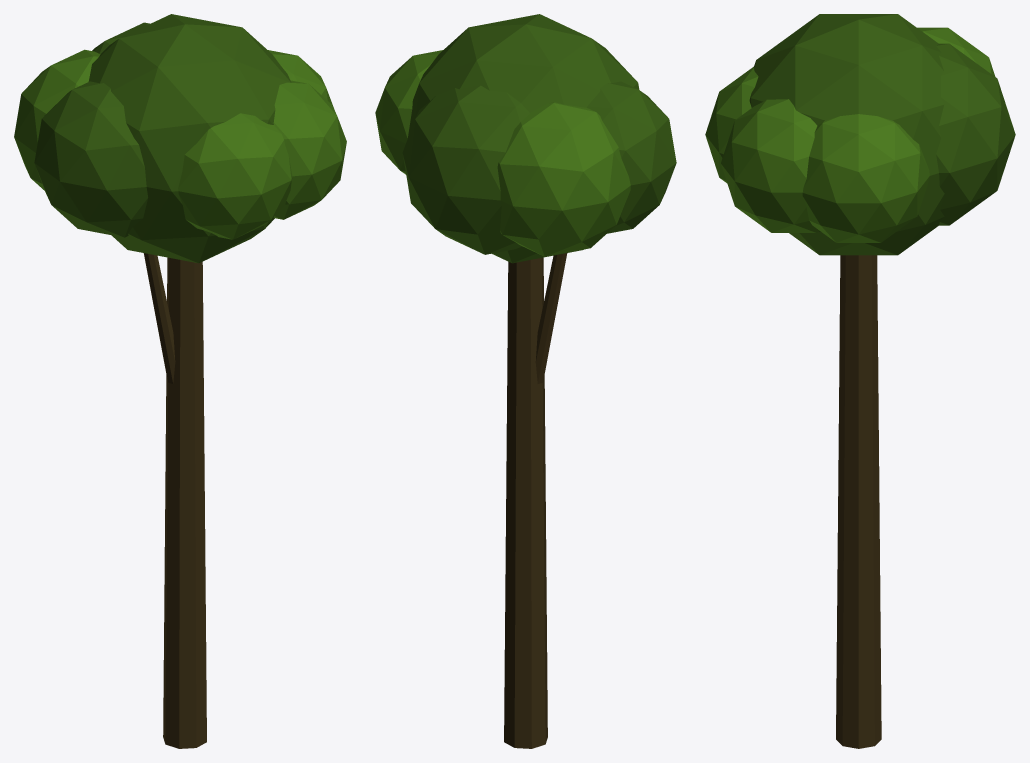
The model's file is Oak-1.fbx.
3 views of the same model, side by side, from view 1: azimuth 30°, elevation 25°; view 2: azimuth 150°, elevation 25°; view 3: azimuth 270°, elevation 25° (orthographic).
Visible parts, largest first — view 1: Cylinder.097; view 2: Cylinder.097; view 3: Cylinder.097.
Part boxes in pixels (bbox=[...]): Cylinder.097: bbox=[14, 14, 346, 748]; Cylinder.097: bbox=[375, 14, 676, 748]; Cylinder.097: bbox=[705, 14, 1015, 748].
Size of the model in its own units: 833 by 2053 by 803.
